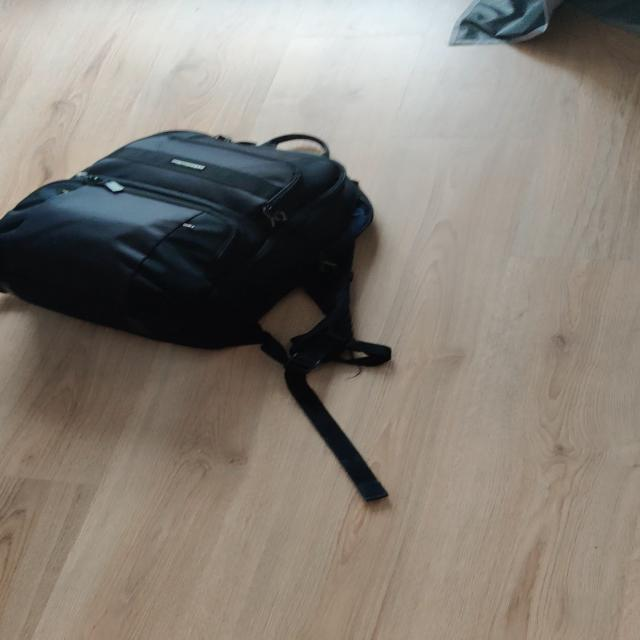backpack: (0, 120, 390, 360)
